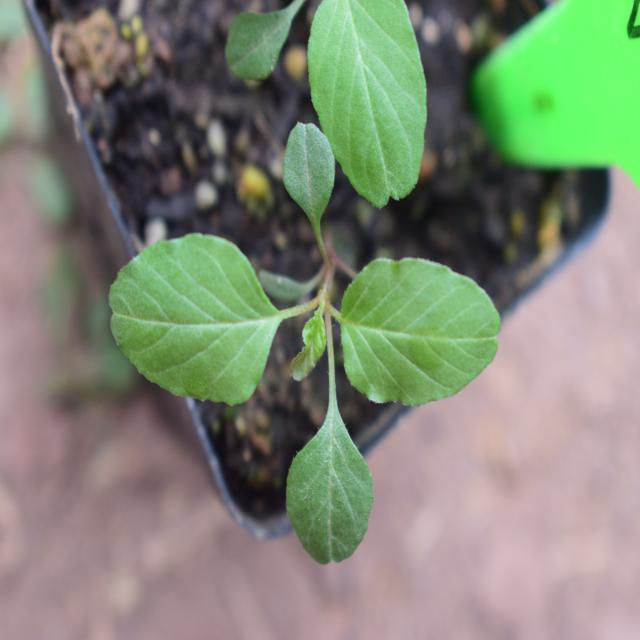pigweed: (99, 147, 541, 570)
